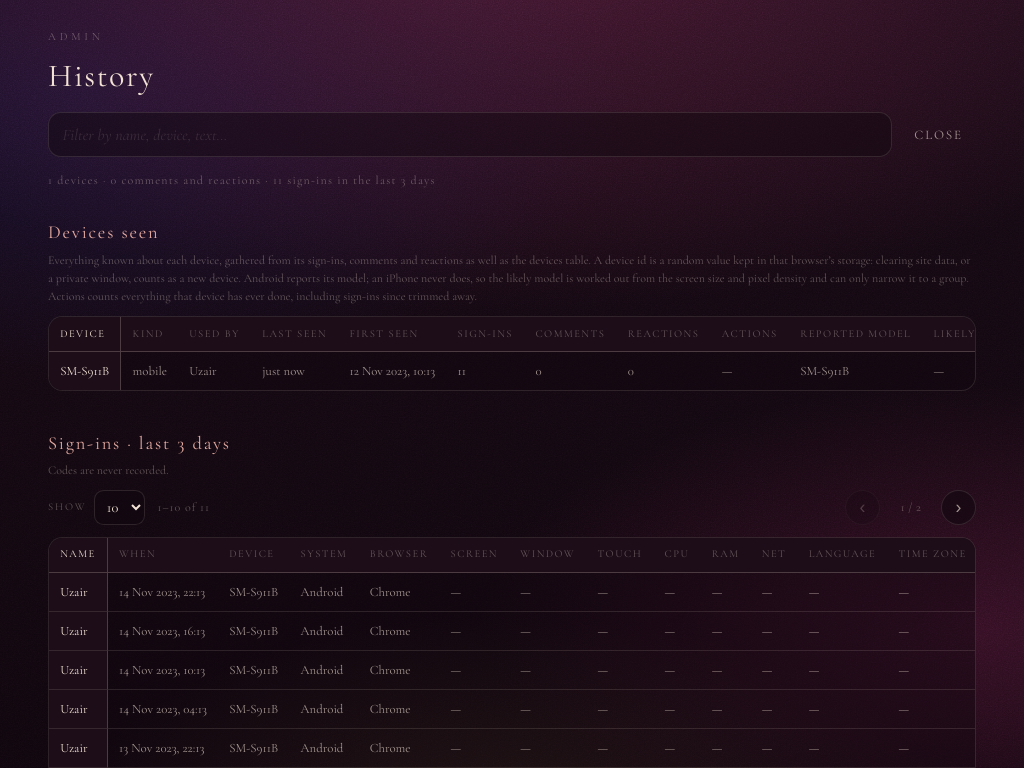
Test case: the sign-ins table › goes back to the first page when the filter changes
Click the button named "Next page" at [958, 508], box [941,490,976,525]
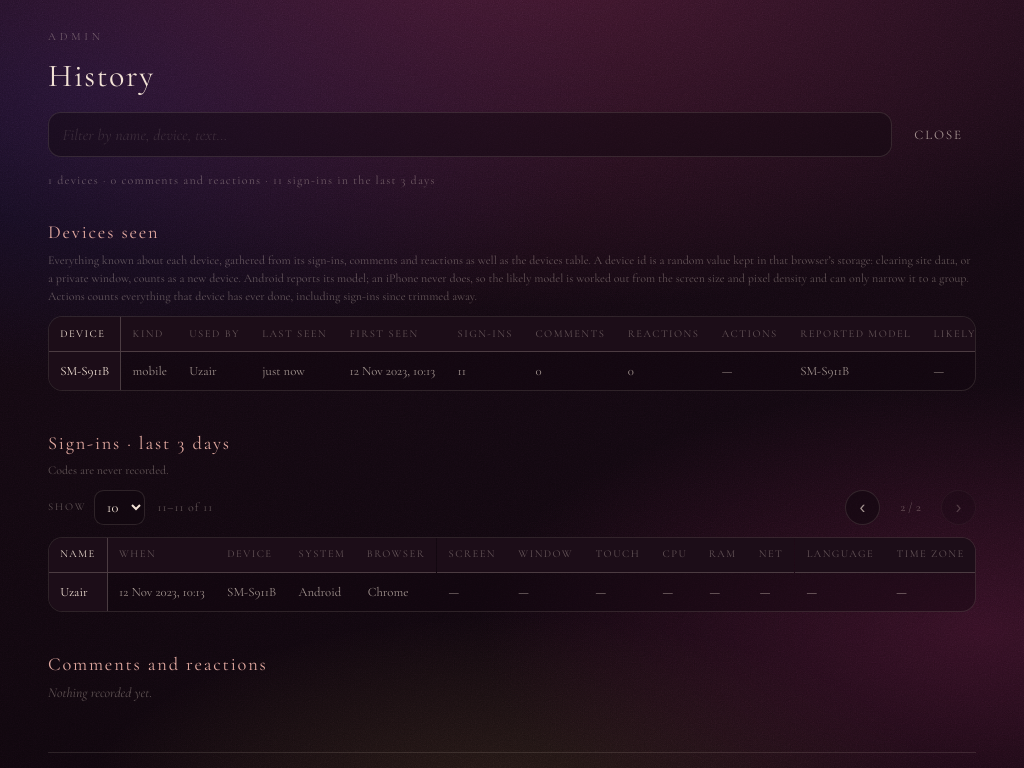
Type "Uzair" into the field named "Filter the history" at [470, 135], box [48,112,892,157]
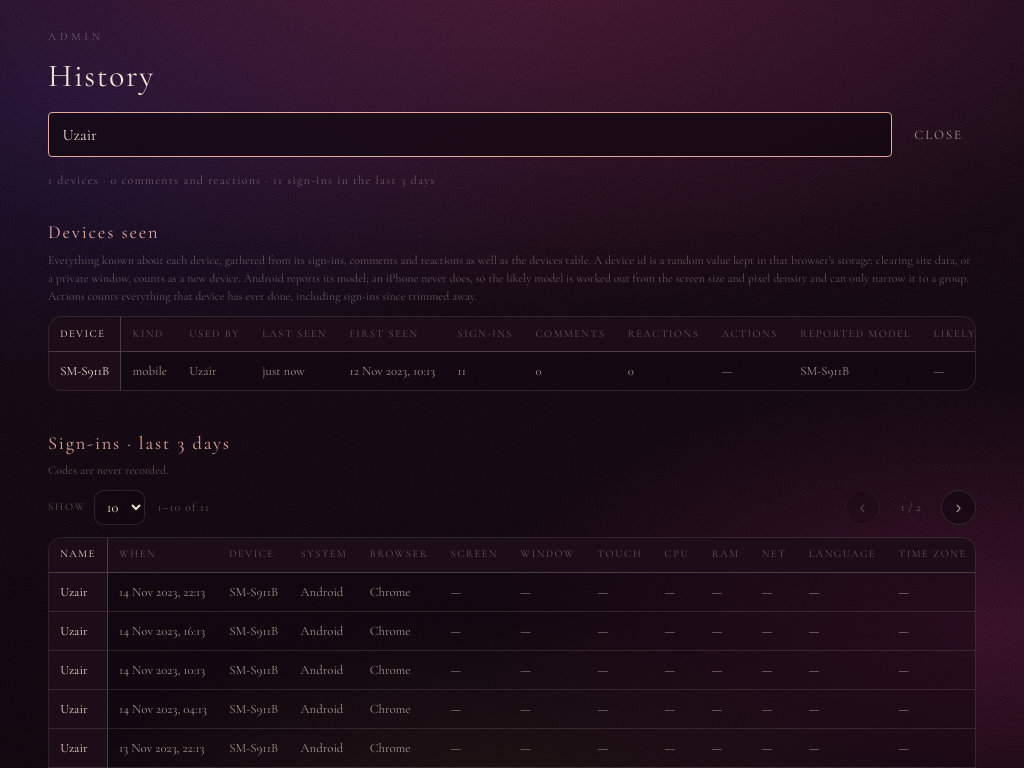
expect the text "1–10 of 11" is shown: met, box [157,498,210,517]
